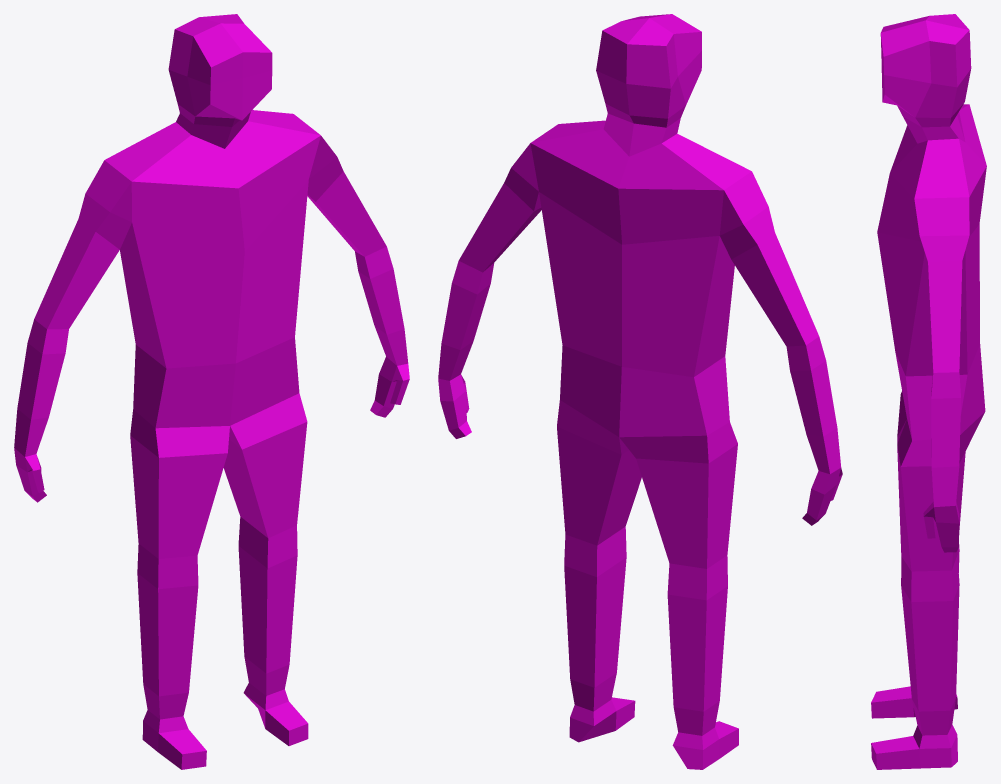
The model's file is human.fbx.
The picture shows the model from 3 angles, left to right: view 1: azimuth 30°, elevation 25°; view 2: azimuth 150°, elevation 25°; view 3: azimuth 270°, elevation 25°; orthographic projection. The views are drawn at different scales.
Visible parts, largest first — view 1: Cube; view 2: Cube; view 3: Cube.
Boxes of the visible parts, x1=… form: Cube: x1=14, y1=14, x2=409, y2=769; Cube: x1=438, y1=14, x2=842, y2=769; Cube: x1=871, y1=14, x2=986, y2=769.
Size of the model in its own units: 320 by 569 by 83.11.
